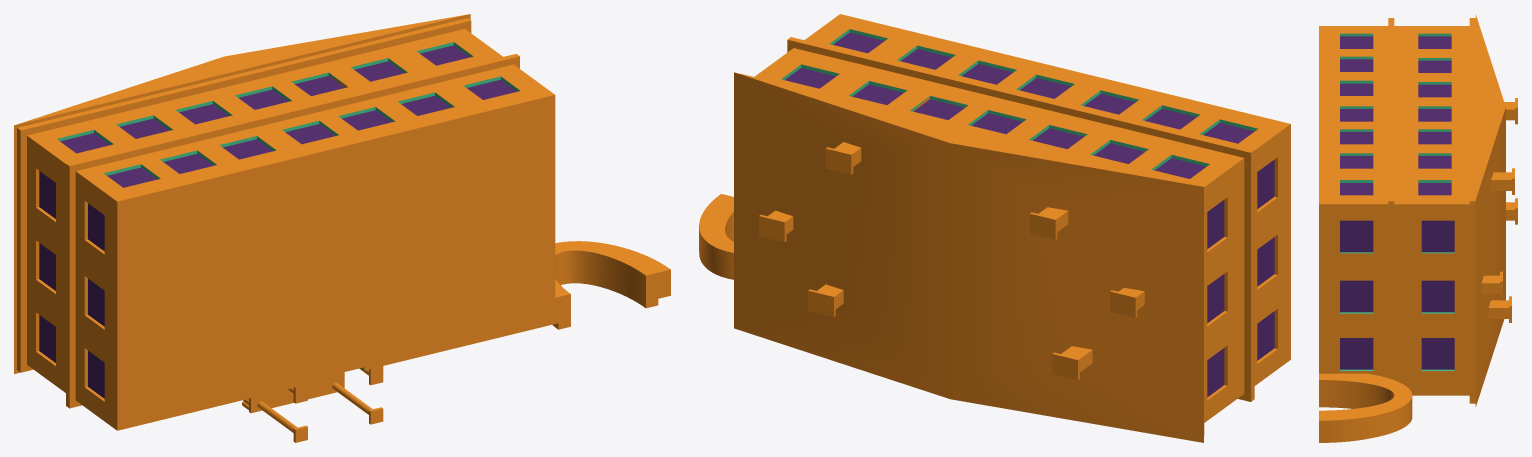
Rendered from Loża Masońska.fbx.
The picture shows the model from 3 angles, left to right: view 1: azimuth 30°, elevation 25°; view 2: azimuth 150°, elevation 25°; view 3: azimuth 270°, elevation 25°; orthographic projection. The views are drawn at different scales.
Parts seen in each view (by area): view 1: Loża_Masońska_obj_0; view 2: Loża_Masońska_obj_0; view 3: Loża_Masońska_obj_0.
Part boxes in pixels (x1,y1,x2,y2): Loża_Masońska_obj_0: (14, 14, 670, 442); Loża_Masońska_obj_0: (699, 14, 1290, 442); Loża_Masońska_obj_0: (1319, 14, 1517, 442).
Size of the model in its own units: 35.77 by 17.88 by 13.12.
Materials: 1 (1 with a texture image).
